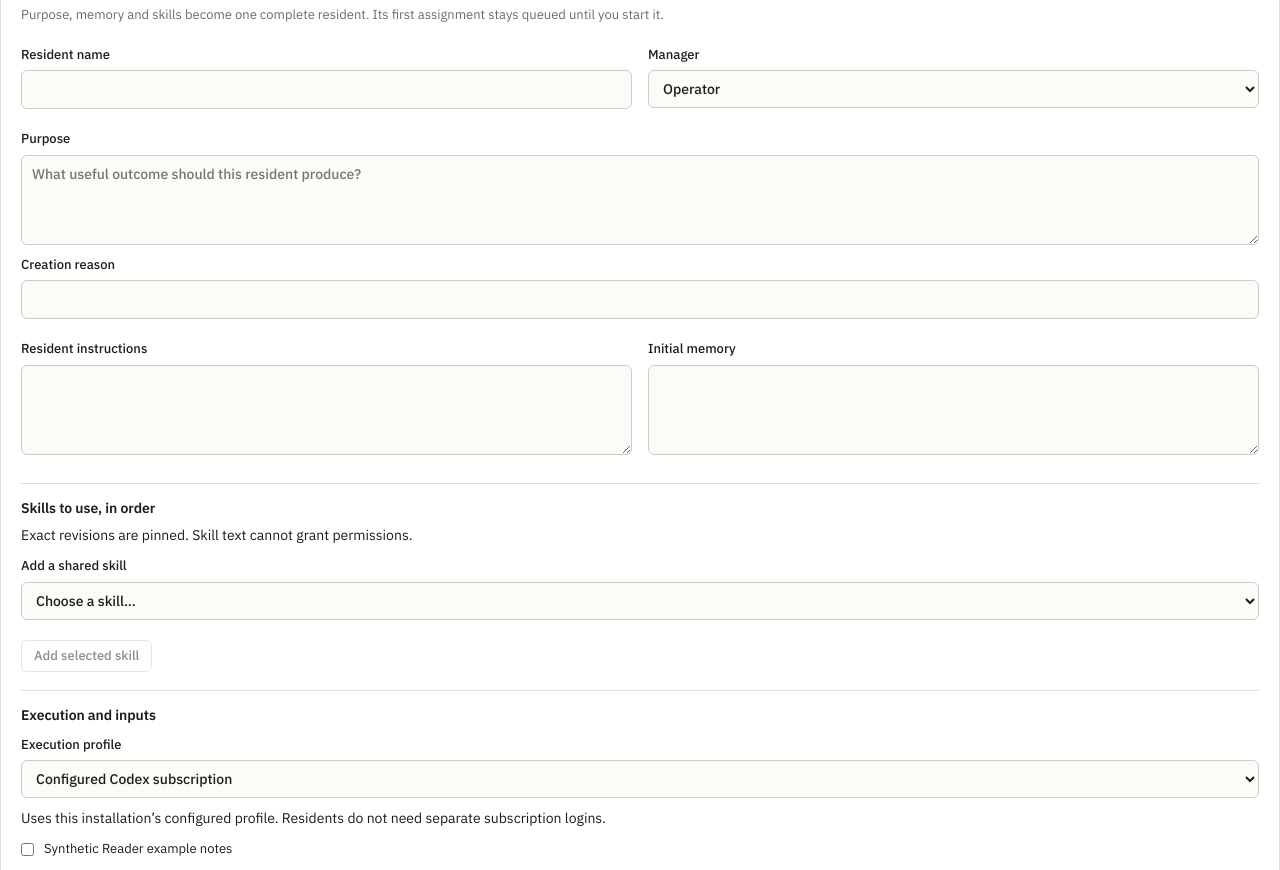
Test: keeps the confirmed ready receipt if opening its profile fails
Type "Reporter" into the field labelled "Resident name" at (326, 90), box [21,70,632,109]
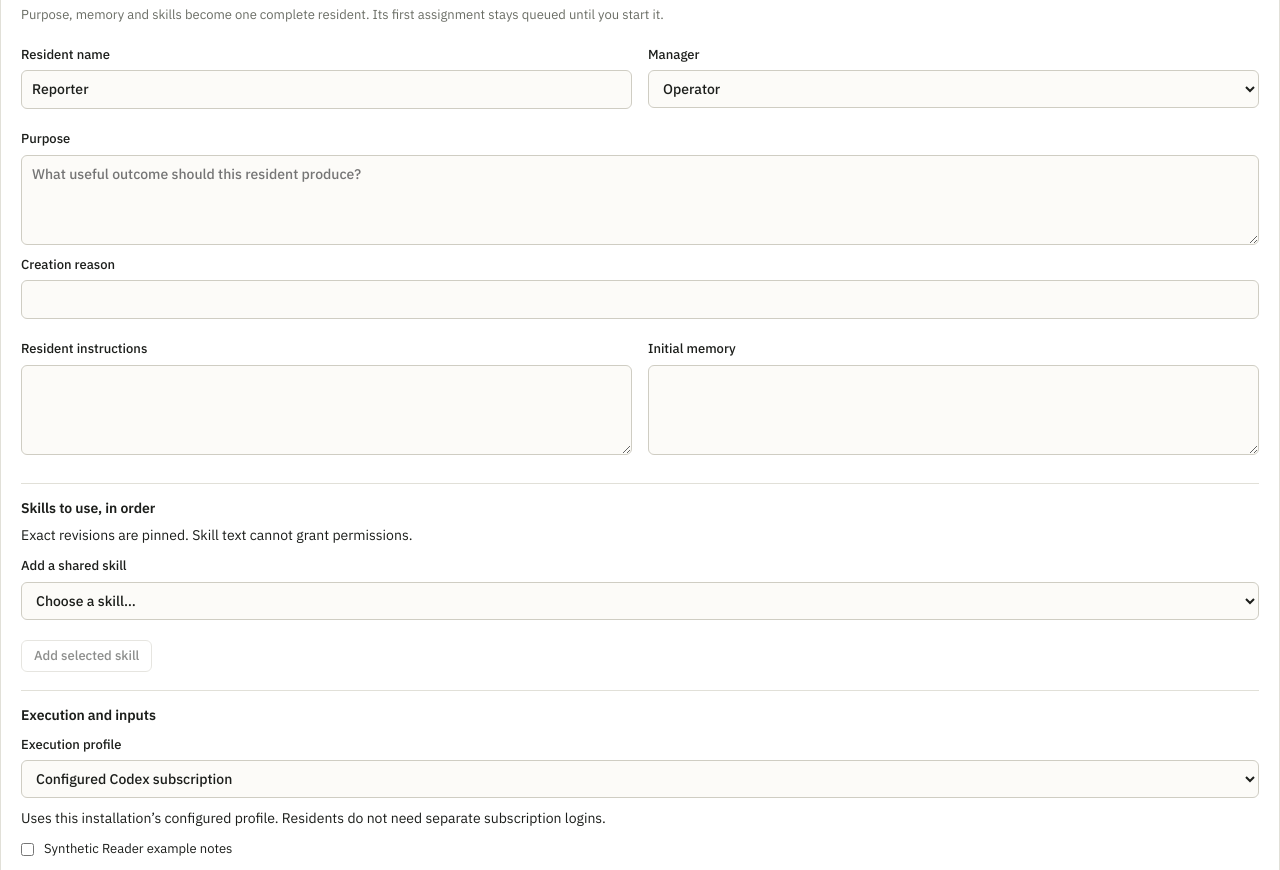
Type "Notes" into the text box labelled "Purpose" at (640, 200), box [21,154,1259,244]
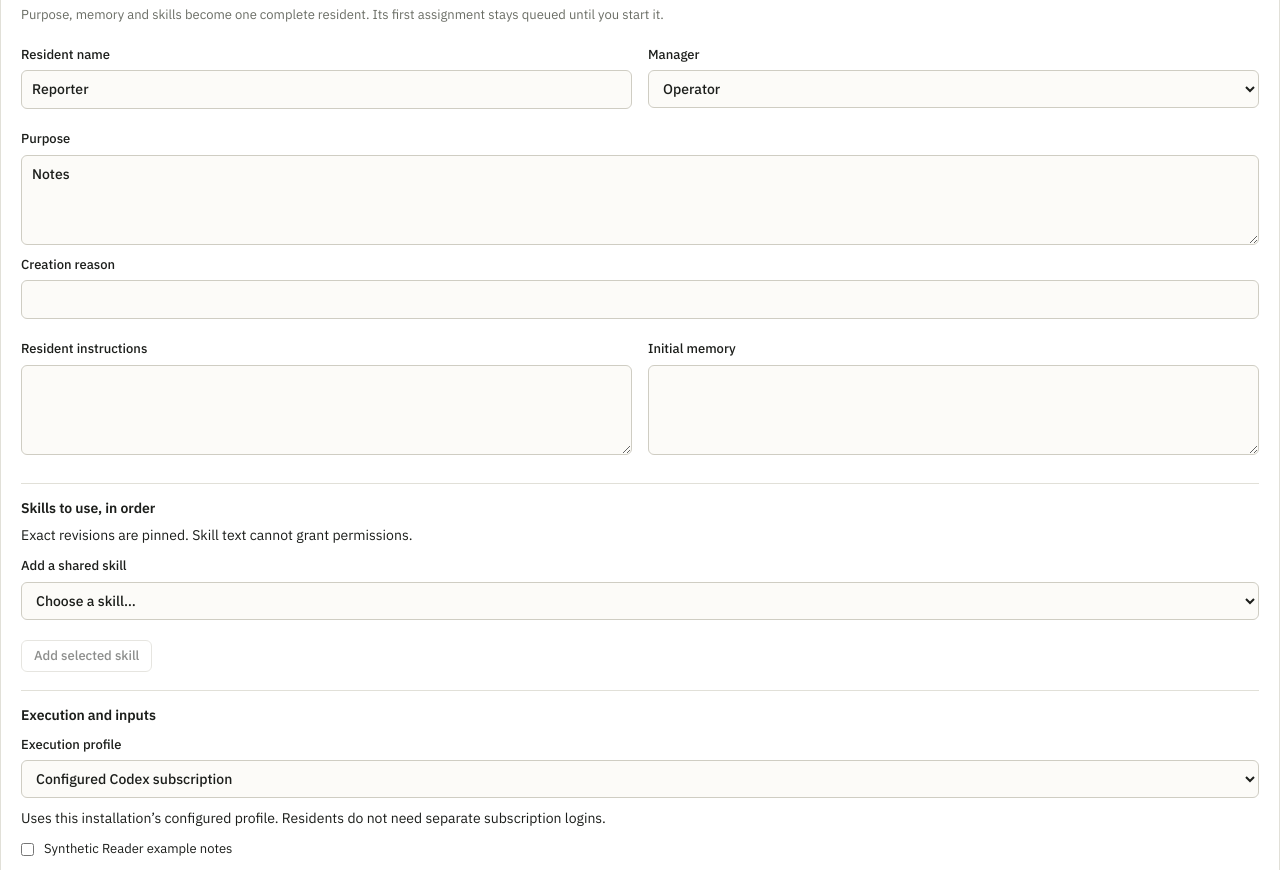
Type "Synthetic" into the field labelled "Creation reason" at (640, 300), box [21,280,1259,319]
(page scrolled)
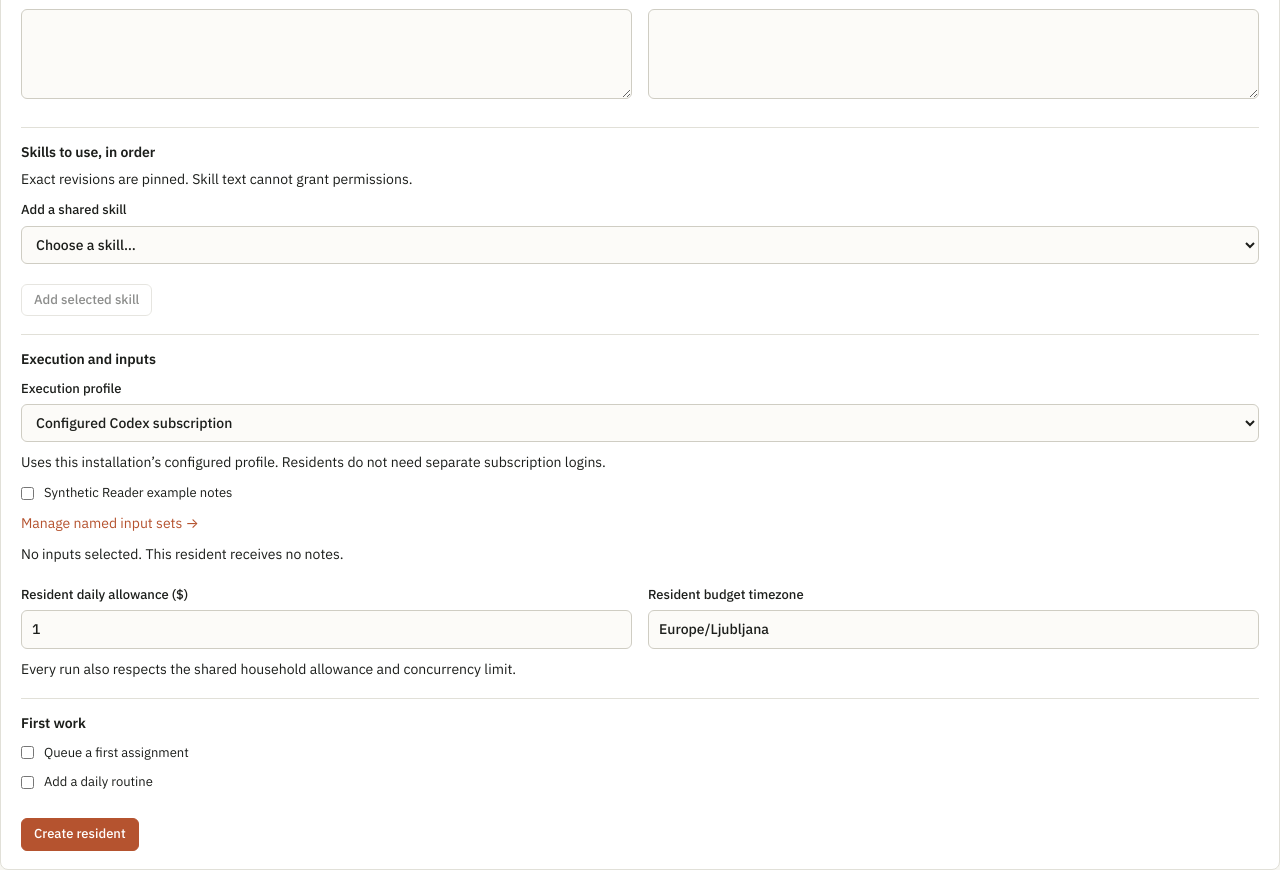
Click the button "Create resident" at (80, 834), box [21,818,139,851]
(page scrolled)
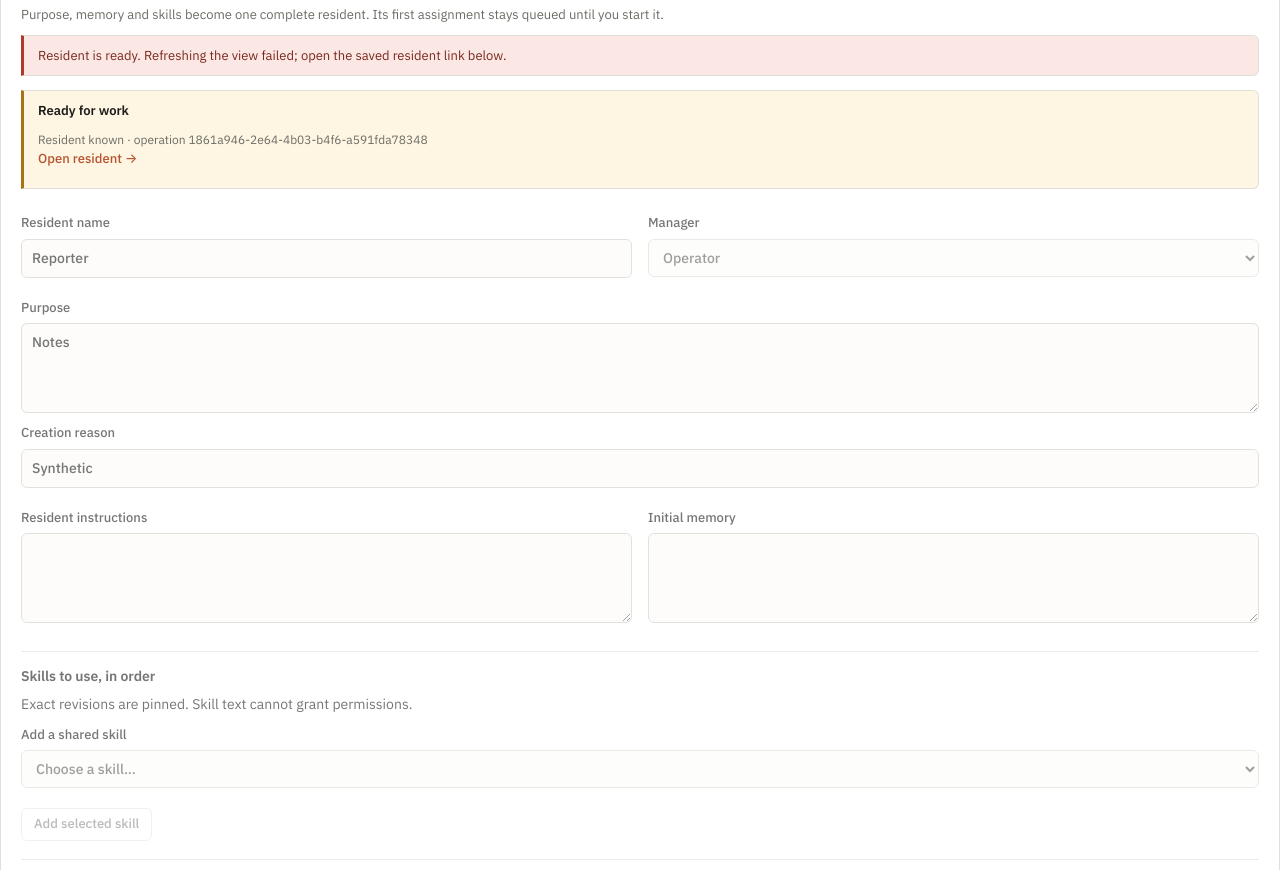
Check: the text "Resident is ready. Refreshing" is shown, box [38,46,506,64]
